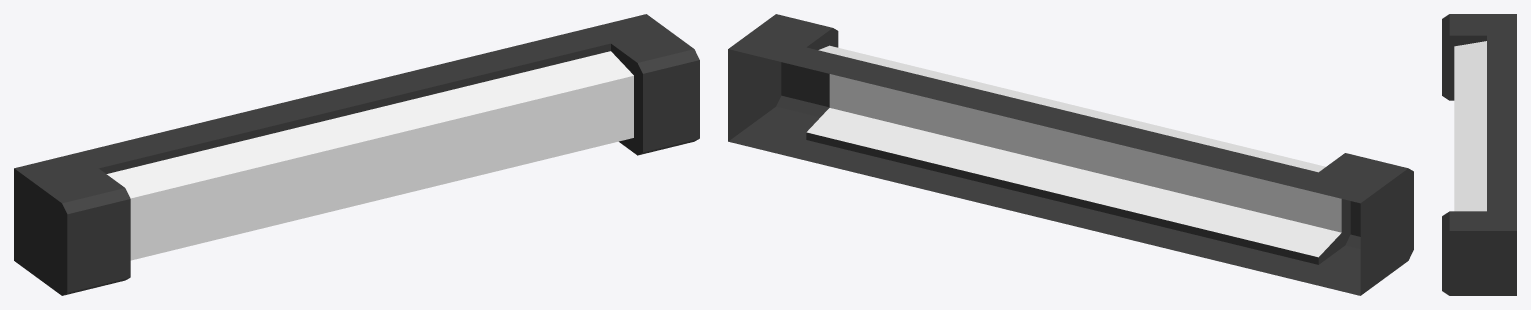
The model's file is Light Fixture 3.fbx.
3 renders of one model, left to right at view 1: azimuth 30°, elevation 25°; view 2: azimuth 150°, elevation 25°; view 3: azimuth 270°, elevation 25°, orthographic. The views are drawn at different scales.
Visible parts, largest first — view 1: Light_Bar_Piece, Light_Bar_Base; view 2: Light_Bar_Base, Light_Bar_Piece; view 3: Light_Bar_Base, Light_Bar_Piece.
Part boxes in pixels (x1,y1,x2,y2): Light_Bar_Piece: (106,51,633,260); Light_Bar_Base: (14,14,699,295); Light_Bar_Base: (728,14,1413,295); Light_Bar_Piece: (806,45,1341,257); Light_Bar_Base: (1442,14,1516,295); Light_Bar_Piece: (1454,41,1486,211).
Bounding box in the file's own units: 1.91 × 0.2675 × 0.2791.
